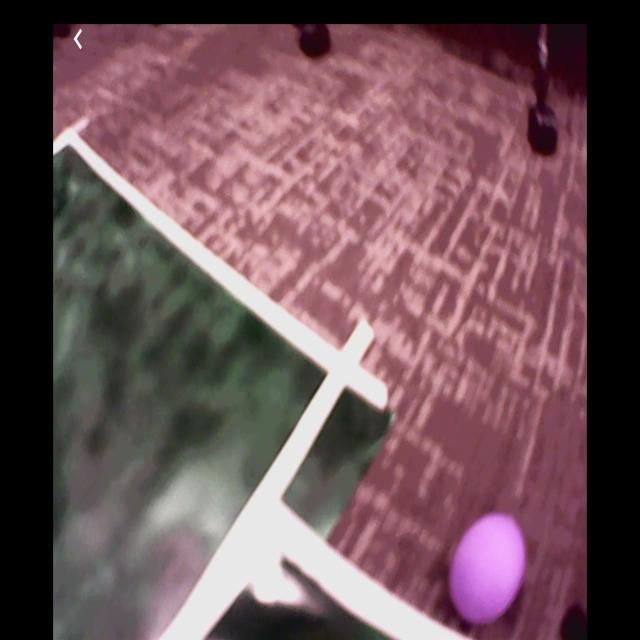ball: (450, 513, 525, 624)
